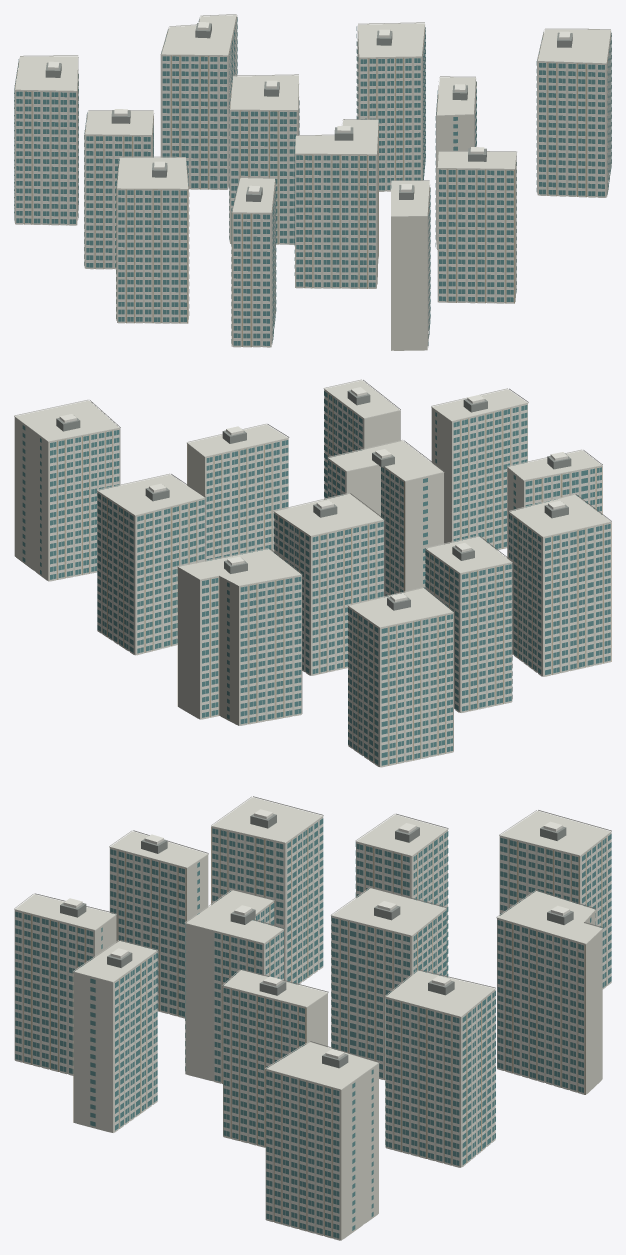
The model's file is representative-a10085903.glb.
The picture shows the model from 3 angles, top to bottom: view 1: azimuth 30°, elevation 25°; view 2: azimuth 150°, elevation 25°; view 3: azimuth 270°, elevation 25°; orthographic projection. The views are drawn at different scales.
Visible parts, largest first — view 1: A10085903_trim001, A10085903_glass001, A10085903_wall001, A10085903_accent001, A10085903_roof001; view 2: A10085903_wall001, A10085903_trim001, A10085903_glass001, A10085903_accent001, A10085903_roof001; view 3: A10085903_wall001, A10085903_trim001, A10085903_glass001, A10085903_accent001, A10085903_roof001.
Part boxes in pixels (box(x1,y1,x2,y2)): A10085903_trim001: box(14, 14, 611, 347); A10085903_glass001: box(14, 17, 611, 345); A10085903_wall001: box(15, 15, 610, 350); A10085903_accent001: box(15, 17, 610, 347); A10085903_roof001: box(45, 23, 572, 201); A10085903_wall001: box(14, 380, 611, 767); A10085903_trim001: box(14, 379, 611, 767); A10085903_glass001: box(22, 391, 610, 765); A10085903_accent001: box(57, 393, 611, 765); A10085903_roof001: box(56, 390, 571, 610); A10085903_wall001: box(14, 797, 611, 1240); A10085903_trim001: box(14, 796, 611, 1240); A10085903_glass001: box(15, 818, 611, 1238); A10085903_accent001: box(23, 825, 606, 1238); A10085903_roof001: box(60, 814, 573, 1068).
Bounding box in the file's own units: 200 × 51.3 × 173.
